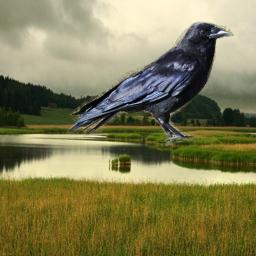Crow: (66, 18, 234, 148)
